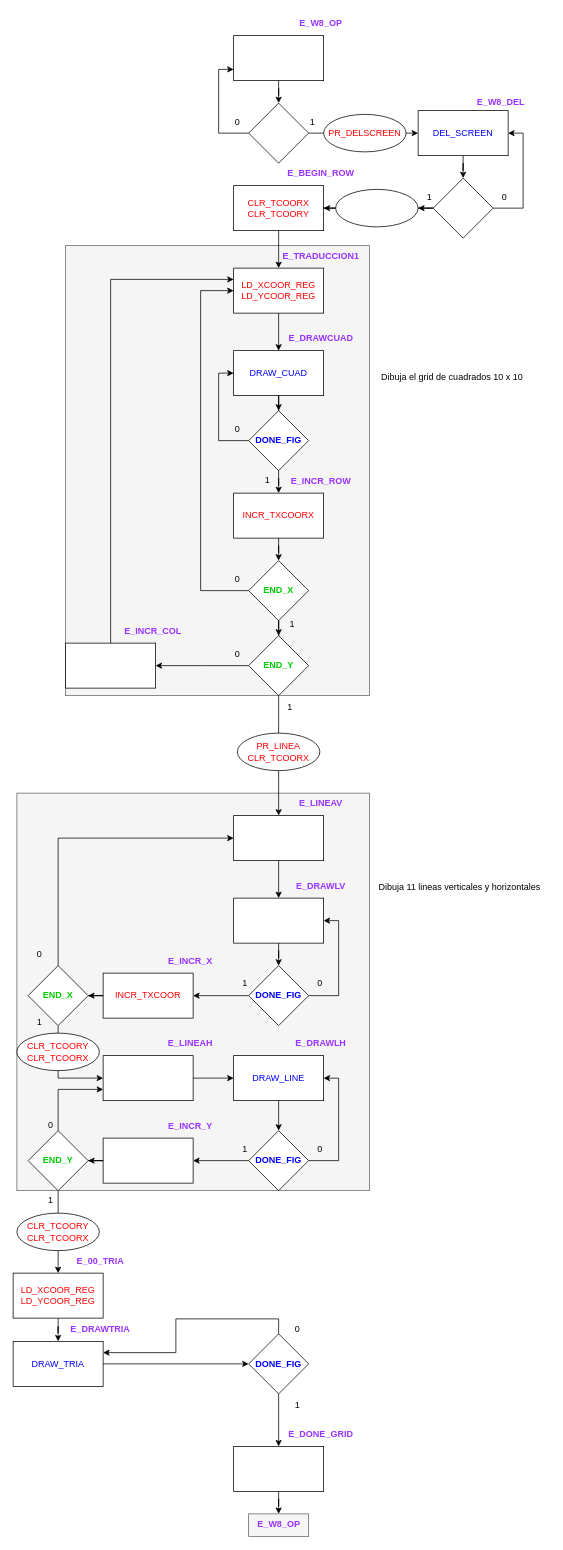
This 563x1550 diagram has some shape labels left out. The shapes that lost their labels are listed below. From the top down, each one's centre as x and y in pixels, then its label:
[278,132]: GRID_OP
[376,208]: PR_CUAD
[462,207]: DONE_DEL
[110,665]: INCR_TYCOOR CLR_TXCOOR
[278,838]: LD_XCOOR_REG
[278,920]: DRAW_LINE VERTICAL
[147,1078]: LD_TYCOOR_REG LD_TXCOOR_REG
[147,1160]: INCR_TYCOOR
[278,1468]: DONE_GRID
